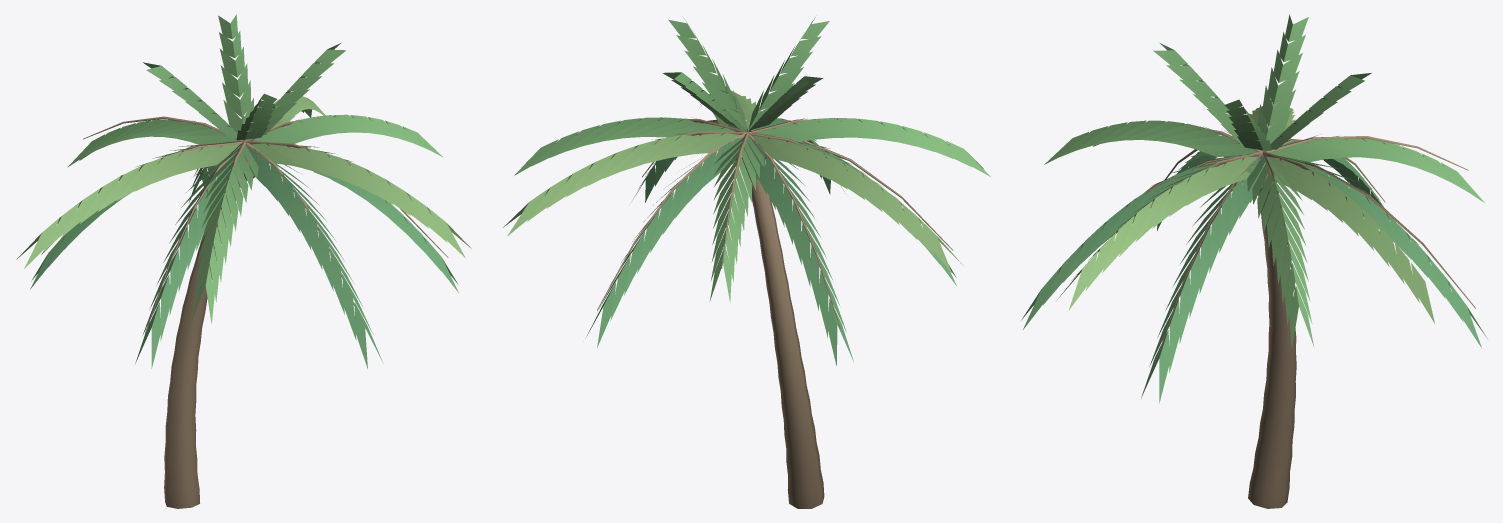
Rendered from palme_4.glb.
3 renders of one model, left to right at view 1: azimuth 30°, elevation 25°; view 2: azimuth 150°, elevation 25°; view 3: azimuth 270°, elevation 25°, orthographic. The views are drawn at different scales.
Visible parts, largest first — view 1: G_palme_4; view 2: G_palme_4; view 3: G_palme_4.
Boxes of the visible parts, x1,y1,x2,y2 form: G_palme_4: (16, 14, 471, 508); G_palme_4: (503, 17, 991, 508); G_palme_4: (1021, 14, 1487, 508).
Size of the model in its own units: 9.27 by 8.95 by 8.01.
